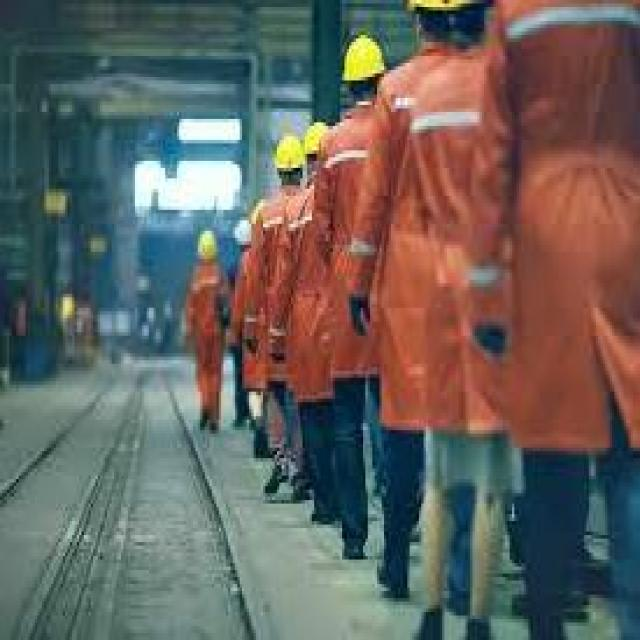Reflective-Jacket: (377, 39, 517, 448), (318, 108, 396, 308), (252, 185, 314, 322), (184, 262, 228, 350)
Safety-Helmet: (333, 32, 393, 94), (268, 126, 307, 182), (193, 224, 221, 266), (230, 214, 256, 248)
